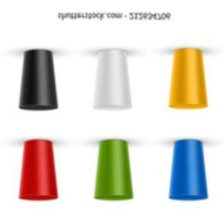glass: (12, 45, 63, 116), (88, 46, 137, 116), (163, 45, 211, 116), (16, 135, 63, 206), (165, 136, 211, 205), (90, 136, 135, 204)
